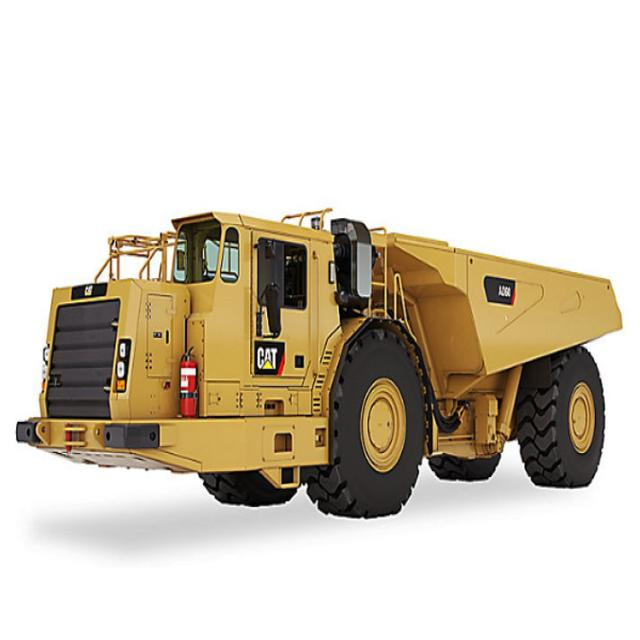truck: (16, 208, 620, 518)
